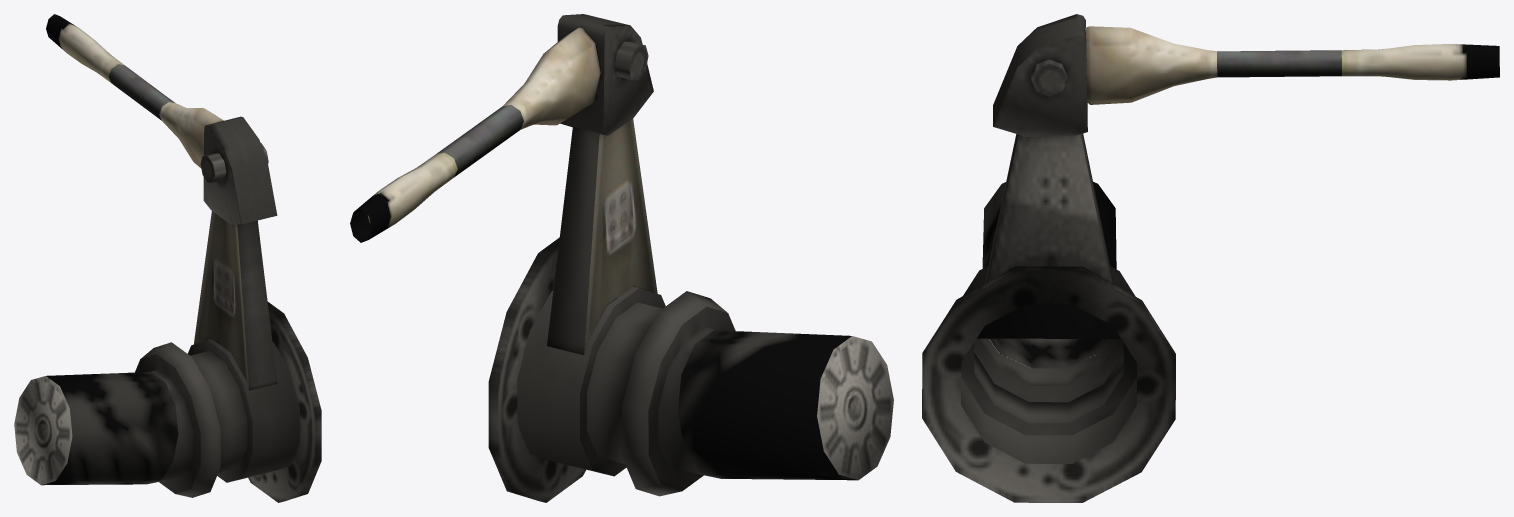
Rendered from right_axis.dae.
The picture shows the model from 3 angles, left to right: view 1: azimuth 30°, elevation 25°; view 2: azimuth 150°, elevation 25°; view 3: azimuth 270°, elevation 25°; orthographic projection. The views are drawn at different scales.
Parts seen in each view (by area): view 1: suspension_axel_R, suspension_rod_R; view 2: suspension_axel_R, suspension_rod_R; view 3: suspension_axel_R, suspension_rod_R.
Part boxes in pixels (bbox=[...]): suspension_axel_R: bbox=[14, 211, 321, 502]; suspension_rod_R: bbox=[46, 14, 277, 224]; suspension_axel_R: bbox=[488, 118, 893, 502]; suspension_rod_R: bbox=[350, 14, 653, 242]; suspension_axel_R: bbox=[922, 133, 1175, 502]; suspension_rod_R: bbox=[993, 14, 1499, 136].
Bounding box in the file's own units: 0.2708 × 0.4628 × 0.4047.
Materials: 1 (1 with a texture image).
